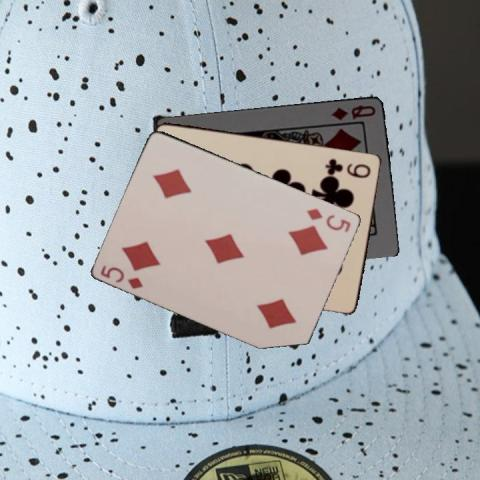5d: (303, 205, 353, 234), (97, 262, 145, 291)
9c: (322, 155, 373, 178)
Qd: (328, 102, 377, 122)
